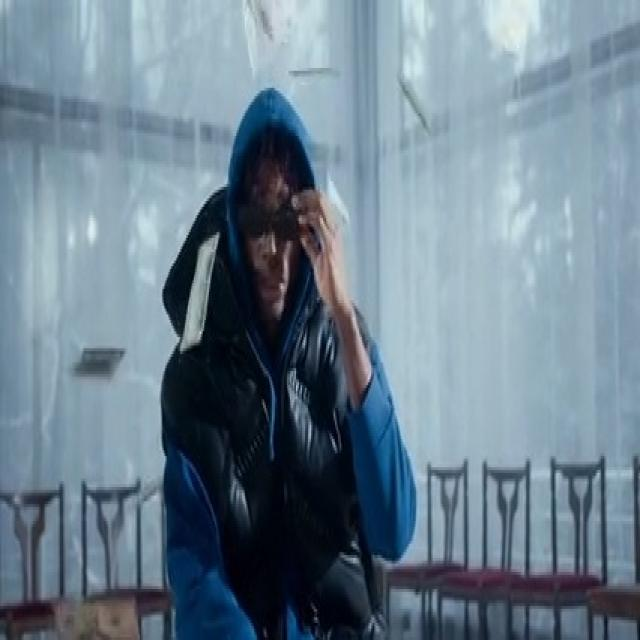Jacket_Wearer: (164, 252, 420, 640)
Person: (149, 67, 417, 640)
